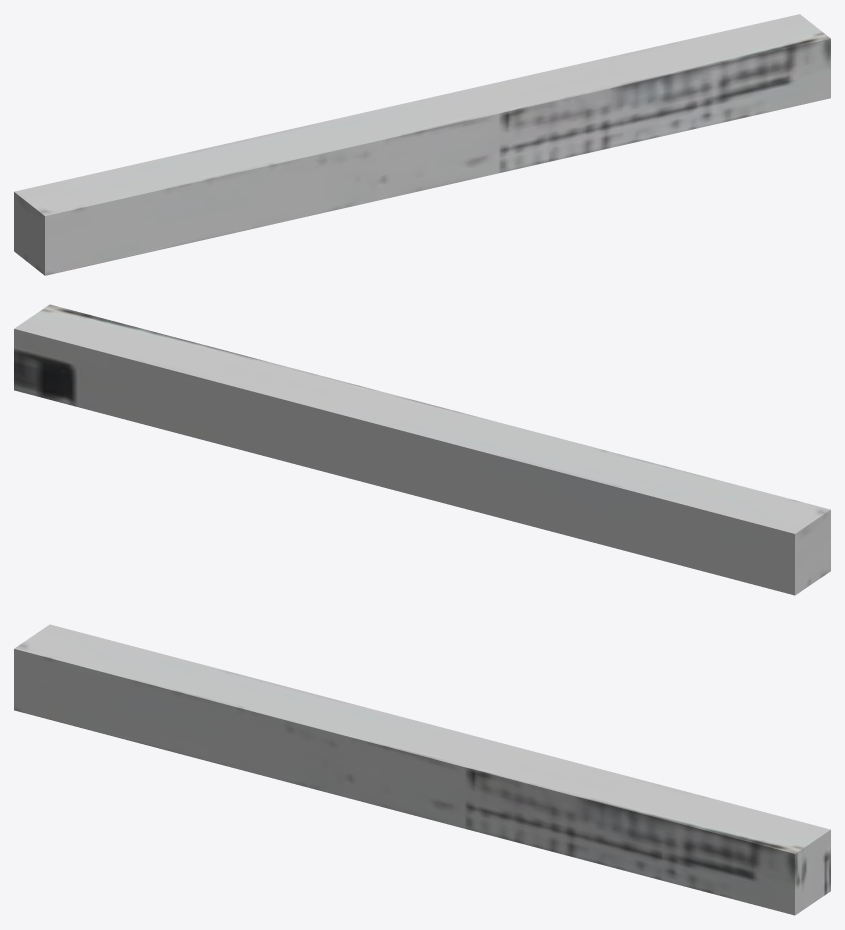
The model's file is frame__seat_side_rail_1.glb.
The picture shows the model from 3 angles, top to bottom: view 1: azimuth 30°, elevation 25°; view 2: azimuth 150°, elevation 25°; view 3: azimuth 330°, elevation 25°; orthographic projection. The views are drawn at different scales.
Parts seen in each view (by area): view 1: world; view 2: world; view 3: world.
Boxes of the visible parts, x1,y1,x2,y2 form: world: (14,14,830,275); world: (14,304,830,595); world: (14,624,830,915).
Size of the model in its own units: 0.4611 by 0.034 by 0.049.
Materials: 1 (1 with a texture image).
